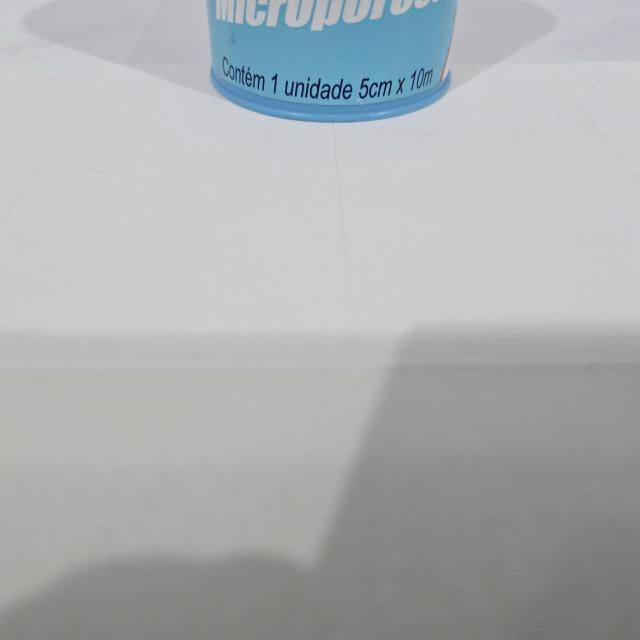procitex: (206, 0, 456, 125)
